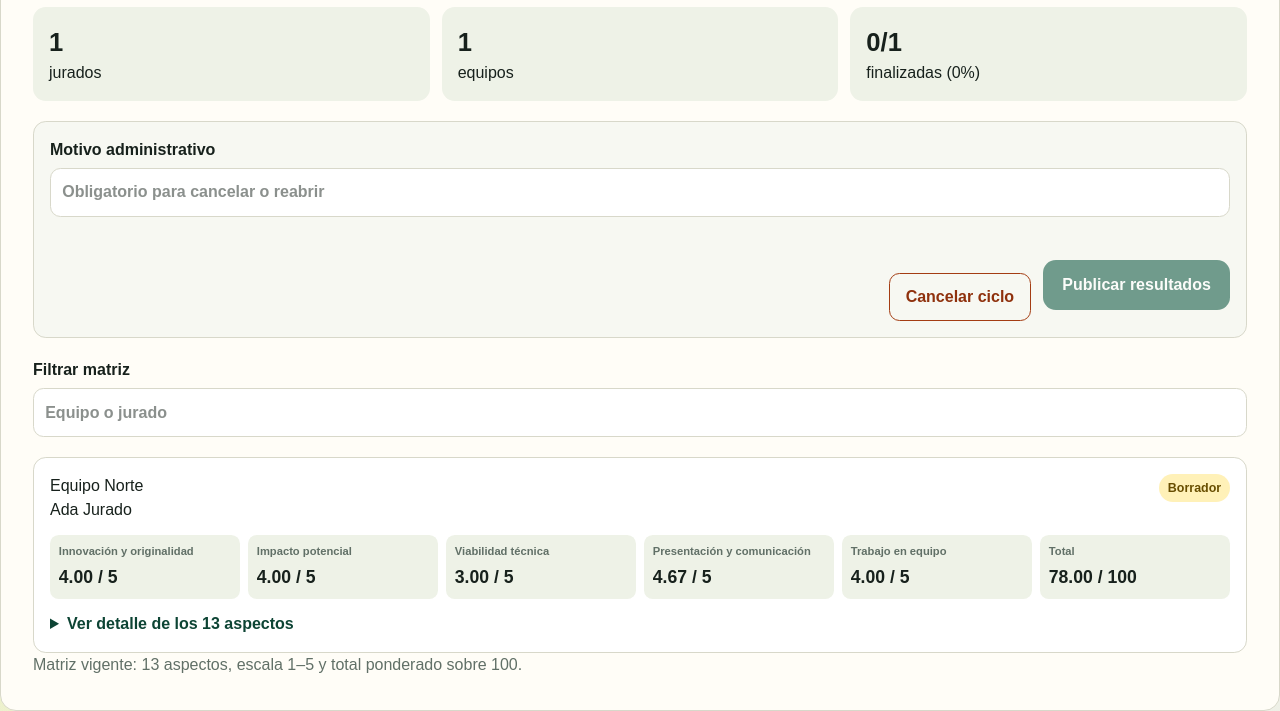
Test: jury evaluation interfaces › lets administrators inspect planilla observations while preserving compact summaries
(page scrolled)
Expected: the text "78.00 / 100" is shown, [1049, 567, 1137, 587]
Click the heading "Ver detalle de los 13 aspectos" at (180,624), box [67, 615, 294, 632]
(page scrolled)
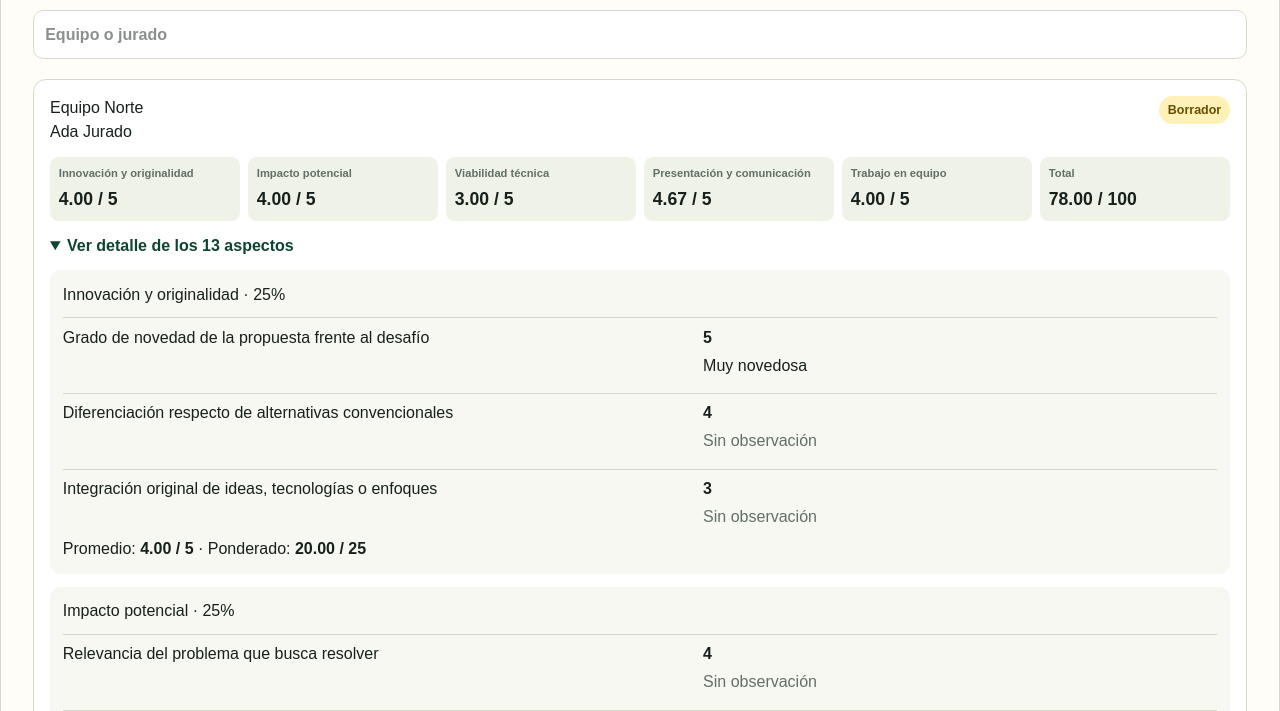
Expected: the text "Muy novedosa" is shown, [703, 357, 807, 374]
Expected: the text "Grado de novedad de la propuesta frente al desafío" is shown, [63, 329, 429, 346]
